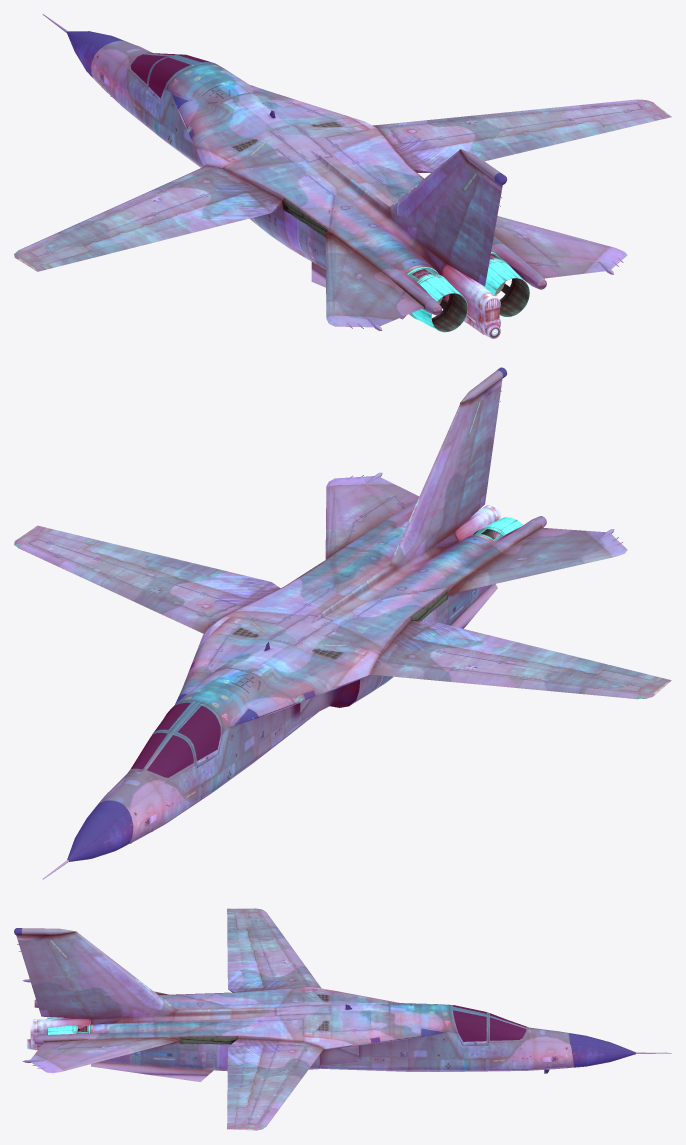
3 views of the same model, one above another, from view 1: azimuth 30°, elevation 25°; view 2: azimuth 150°, elevation 25°; view 3: azimuth 270°, elevation 25° (orthographic). The views are drawn at different scales.
Parts seen in each view (by area): view 1: F-111F_LOD0, F-111F_WingL01, F-111F_WingR01, F-111F_ElevatorL01, F-111F_ElevatorR01, F-111F_RudderL01, F-111F_EngineL01, F-111F_EngineR01, F-111F_Glass_Canopy01, F-111F_BrakeL03, F-111F_FlapL02, F-111F_FlapL03 (+4 smaller); view 2: F-111F_LOD0, F-111F_WingL01, F-111F_WingR01, F-111F_ElevatorL01, F-111F_ElevatorR01, F-111F_Glass_Canopy01, F-111F_RudderL01, F-111F_VoletL04, F-111F_VoletR04, F-111F_VoletL03, F-111F_VoletR03; view 3: F-111F_LOD0, F-111F_WingR01, F-111F_RudderL01, F-111F_WingL01, F-111F_ElevatorR01, F-111F_Glass_Canopy01, F-111F_VoletR05, F-111F_EngineR01, F-111F_VoletR04, F-111F_BrakeR03, F-111F_FlapR02, F-111F_FlapL02 (+2 smaller).
Boxes of the visible parts, left/top/right/bottom form: F-111F_LOD0: left=42, top=14, right=546, bottom=338; F-111F_WingL01: left=14, top=167, right=282, bottom=271; F-111F_WingR01: left=377, top=99, right=671, bottom=172; F-111F_ElevatorL01: left=325, top=234, right=423, bottom=330; F-111F_ElevatorR01: left=494, top=216, right=627, bottom=278; F-111F_RudderL01: left=446, top=177, right=501, bottom=286; F-111F_EngineL01: left=406, top=266, right=467, bottom=332; F-111F_EngineR01: left=482, top=251, right=529, bottom=317; F-111F_Glass_Canopy01: left=130, top=53, right=210, bottom=97; F-111F_BrakeL03: left=194, top=191, right=258, bottom=217; F-111F_FlapL02: left=143, top=218, right=217, bottom=242; F-111F_FlapL03: left=206, top=202, right=270, bottom=226; F-111F_LOD0: left=43, top=367, right=546, bottom=879; F-111F_WingL01: left=376, top=621, right=671, bottom=699; F-111F_WingR01: left=14, top=525, right=280, bottom=621; F-111F_ElevatorL01: left=451, top=527, right=627, bottom=593; F-111F_ElevatorR01: left=325, top=472, right=419, bottom=559; F-111F_Glass_Canopy01: left=131, top=702, right=220, bottom=777; F-111F_RudderL01: left=454, top=385, right=501, bottom=531; F-111F_VoletL04: left=370, top=661, right=448, bottom=680; F-111F_VoletR04: left=154, top=600, right=215, bottom=633; F-111F_VoletL03: left=442, top=670, right=523, bottom=687; F-111F_VoletR03: left=101, top=578, right=162, bottom=610; F-111F_LOD0: left=14, top=928, right=671, bottom=1081; F-111F_WingR01: left=227, top=1038, right=309, bottom=1130; F-111F_RudderL01: left=17, top=940, right=90, bottom=1019; F-111F_WingL01: left=227, top=908, right=309, bottom=992; F-111F_ElevatorR01: left=22, top=1037, right=178, bottom=1073; F-111F_Glass_Canopy01: left=453, top=1005, right=526, bottom=1041; F-111F_VoletR05: left=303, top=1037, right=352, bottom=1049; F-111F_EngineR01: left=47, top=1024, right=90, bottom=1034; F-111F_VoletR04: left=296, top=1044, right=323, bottom=1069; F-111F_BrakeR03: left=243, top=1044, right=264, bottom=1065; F-111F_FlapR02: left=227, top=1065, right=243, bottom=1088; F-111F_FlapL02: left=227, top=947, right=243, bottom=970.
Size of the model in its own units: 19.24 by 5.88 by 24.11.
4 materials, 4 textured.
